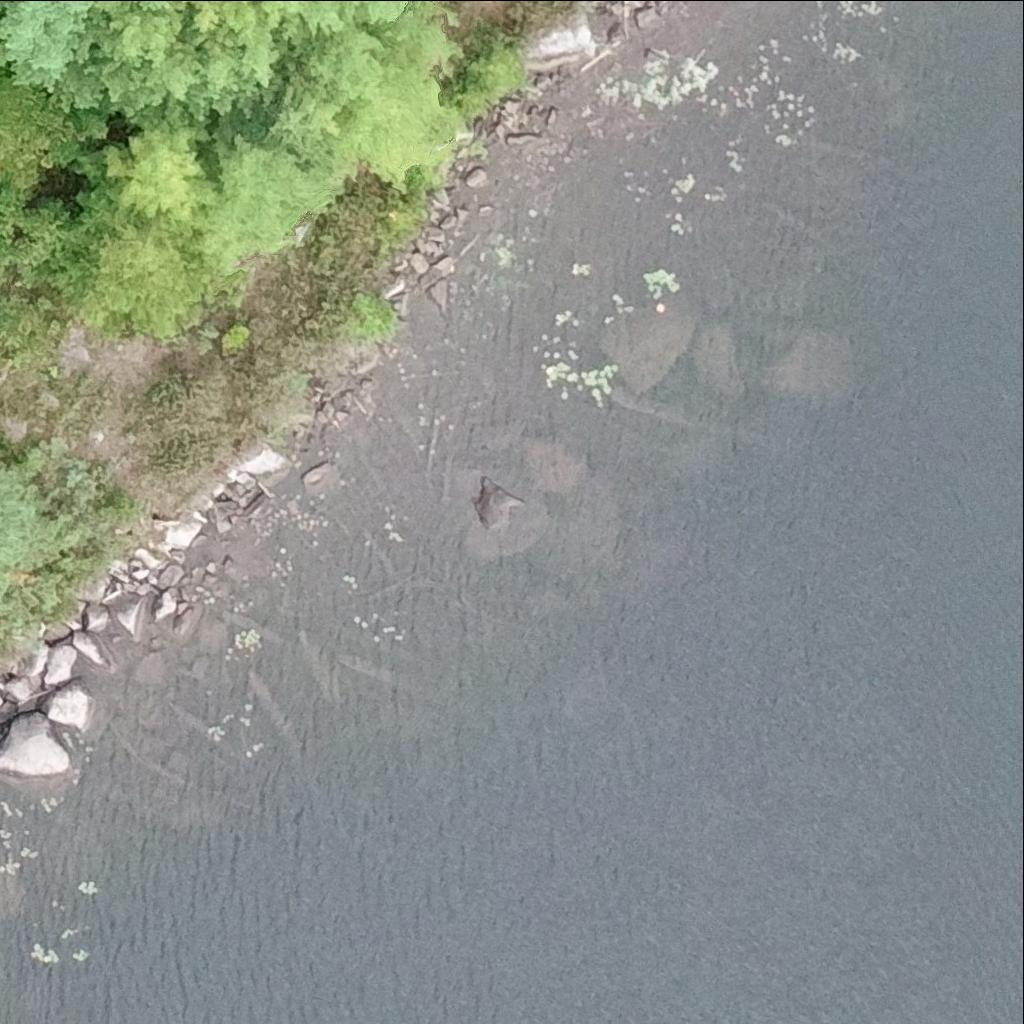crown: (0, 0, 257, 138), (190, 0, 414, 91), (0, 73, 72, 205), (0, 199, 72, 290)
